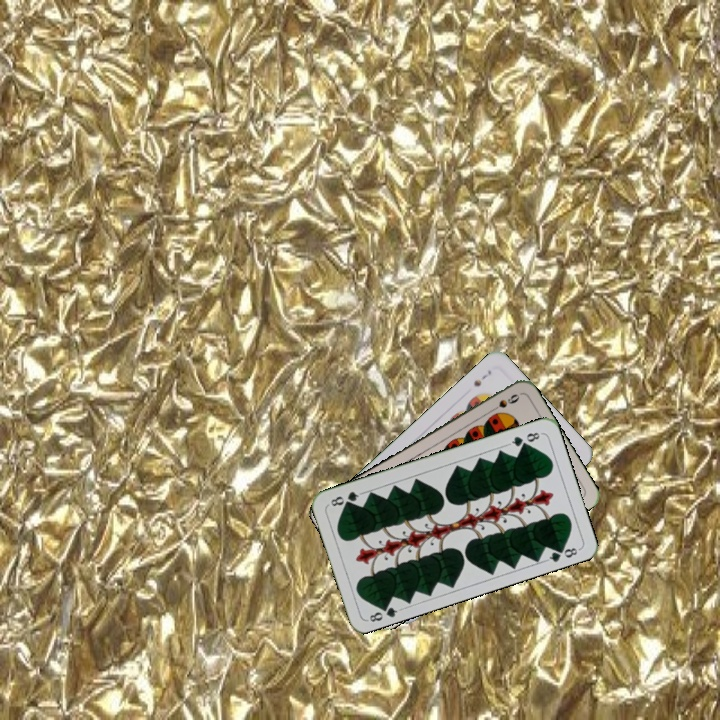G8: (364, 599, 404, 625), (505, 428, 543, 449)
S7: (470, 366, 494, 389)
S9: (485, 390, 522, 416)
